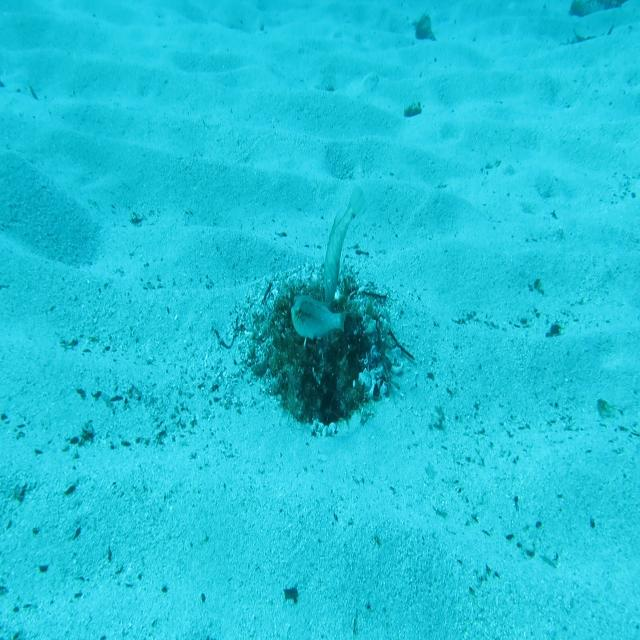NIP_CORE: (323, 183, 366, 310)
core_nest: (295, 292, 344, 331)
female: (289, 291, 350, 342)
nest: (235, 261, 406, 440)
vegetation: (568, 0, 628, 20), (412, 13, 442, 43), (402, 100, 425, 120), (282, 584, 300, 604)
